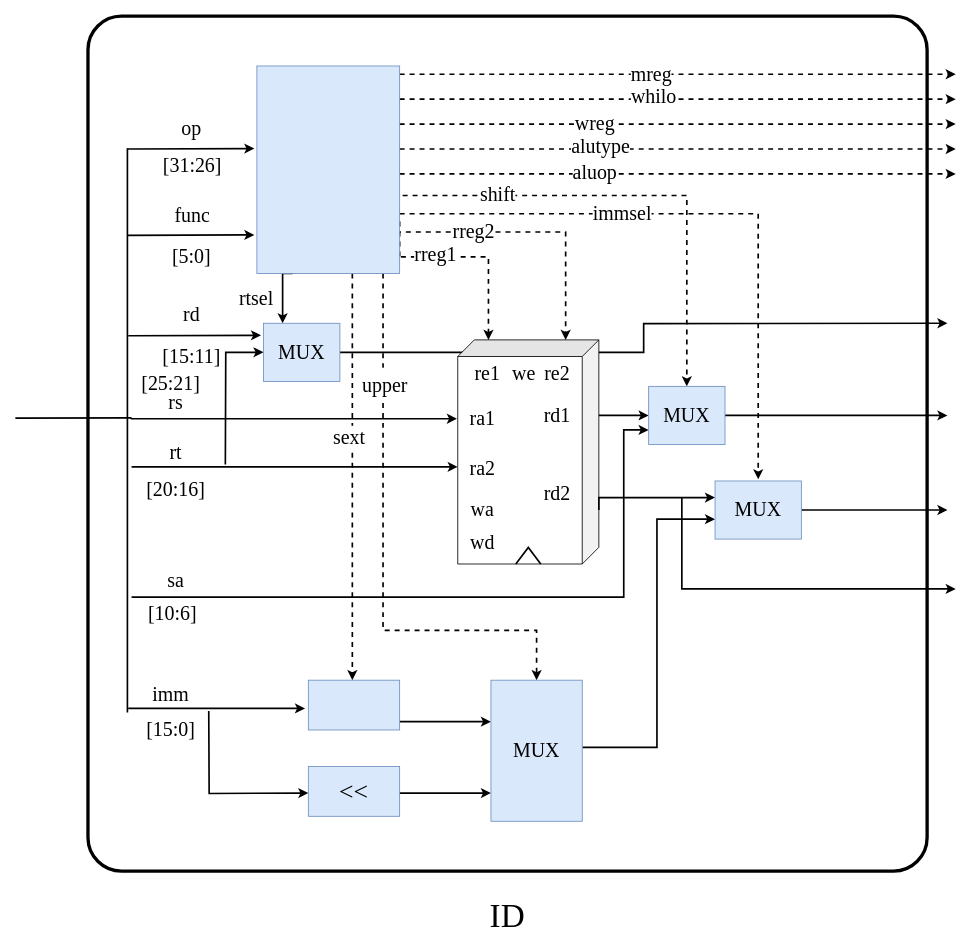
Image size: 977x950. Some labels were removed from this diagram. The shapes that lost their labels are listed below. From the top down, each one's centre as x and y in pixels, then its label:
At pixel 328 169: "DUC".
At pixel 354 704: "ext".
